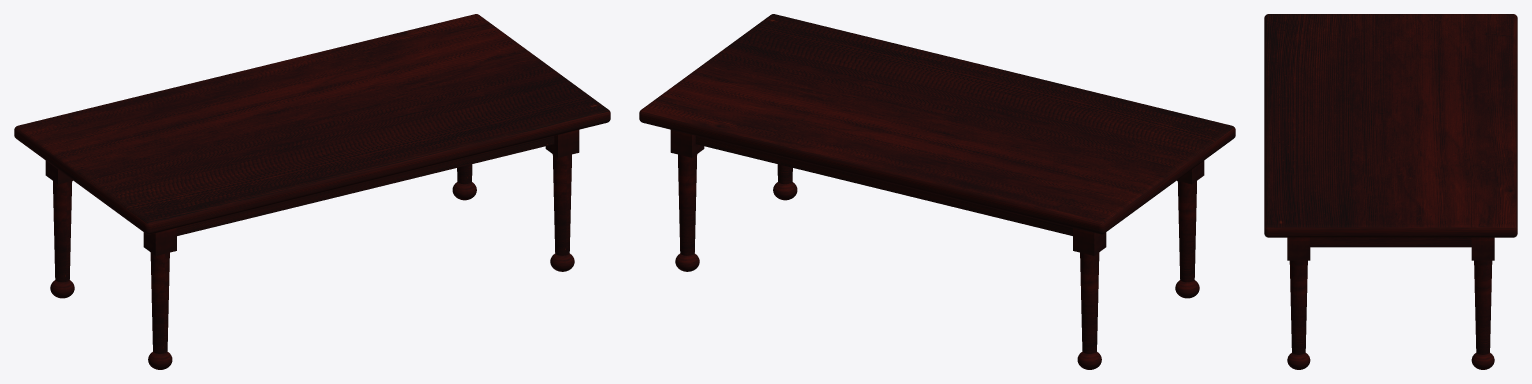
Rendered from state-default.glb.
3 renders of one model, left to right at view 1: azimuth 30°, elevation 25°; view 2: azimuth 150°, elevation 25°; view 3: azimuth 270°, elevation 25°, orthographic. The views are drawn at different scales.
Visible parts, largest first — view 1: assetPrim:9a67b23a28cf8-19c73cb7fe7:table-top, assetPrim:9a67b23a28cf8-19c73cb7fe7:apron-long-1, assetPrim:9a67b23a28cf8-19c73cb7fe7:leg-bl-turned, assetPrim:9a67b23a28cf8-19c73cb7fe7:leg-fl-turned, assetPrim:9a67b23a28cf8-19c73cb7fe7:leg-br-turned, assetPrim:9a67b23a28cf8-19c73cb7fe7:leg-bl-block, assetPrim:9a67b23a28cf8-19c73cb7fe7:leg-fl-block; view 2: assetPrim:9a67b23a28cf8-19c73cb7fe7:table-top, assetPrim:9a67b23a28cf8-19c73cb7fe7:apron-long-2, assetPrim:9a67b23a28cf8-19c73cb7fe7:leg-br-turned, assetPrim:9a67b23a28cf8-19c73cb7fe7:leg-fr-turned, assetPrim:9a67b23a28cf8-19c73cb7fe7:leg-bl-turned, assetPrim:9a67b23a28cf8-19c73cb7fe7:leg-br-block, assetPrim:9a67b23a28cf8-19c73cb7fe7:leg-fr-block; view 3: assetPrim:9a67b23a28cf8-19c73cb7fe7:table-top, assetPrim:9a67b23a28cf8-19c73cb7fe7:apron-short-1, assetPrim:9a67b23a28cf8-19c73cb7fe7:leg-fl-turned, assetPrim:9a67b23a28cf8-19c73cb7fe7:leg-fr-turned, assetPrim:9a67b23a28cf8-19c73cb7fe7:leg-fl-block, assetPrim:9a67b23a28cf8-19c73cb7fe7:leg-fr-block, assetPrim:9a67b23a28cf8-19c73cb7fe7:leg-fl-foot, assetPrim:9a67b23a28cf8-19c73cb7fe7:leg-fr-foot.
Boxes of the visible parts, box(x1,y1,x2,y2) form: assetPrim:9a67b23a28cf8-19c73cb7fe7:table-top: box(14, 14, 610, 234); assetPrim:9a67b23a28cf8-19c73cb7fe7:apron-long-1: box(177, 136, 554, 235); assetPrim:9a67b23a28cf8-19c73cb7fe7:leg-bl-turned: box(150, 252, 169, 353); assetPrim:9a67b23a28cf8-19c73cb7fe7:leg-fl-turned: box(552, 154, 571, 255); assetPrim:9a67b23a28cf8-19c73cb7fe7:leg-br-turned: box(53, 181, 72, 282); assetPrim:9a67b23a28cf8-19c73cb7fe7:leg-bl-block: box(143, 228, 176, 255); assetPrim:9a67b23a28cf8-19c73cb7fe7:leg-fl-block: box(545, 130, 579, 157); assetPrim:9a67b23a28cf8-19c73cb7fe7:table-top: box(639, 14, 1235, 234); assetPrim:9a67b23a28cf8-19c73cb7fe7:apron-long-2: box(695, 136, 1072, 235); assetPrim:9a67b23a28cf8-19c73cb7fe7:leg-br-turned: box(1080, 252, 1099, 353); assetPrim:9a67b23a28cf8-19c73cb7fe7:leg-fr-turned: box(678, 154, 697, 255); assetPrim:9a67b23a28cf8-19c73cb7fe7:leg-bl-turned: box(1177, 181, 1196, 282); assetPrim:9a67b23a28cf8-19c73cb7fe7:leg-br-block: box(1073, 228, 1106, 255); assetPrim:9a67b23a28cf8-19c73cb7fe7:leg-fr-block: box(670, 130, 704, 157); assetPrim:9a67b23a28cf8-19c73cb7fe7:table-top: box(1264, 14, 1517, 237); assetPrim:9a67b23a28cf8-19c73cb7fe7:apron-short-1: box(1310, 237, 1471, 247); assetPrim:9a67b23a28cf8-19c73cb7fe7:leg-fl-turned: box(1289, 260, 1307, 354); assetPrim:9a67b23a28cf8-19c73cb7fe7:leg-fr-turned: box(1474, 260, 1492, 354); assetPrim:9a67b23a28cf8-19c73cb7fe7:leg-fl-block: box(1287, 237, 1310, 260); assetPrim:9a67b23a28cf8-19c73cb7fe7:leg-fr-block: box(1471, 237, 1494, 260); assetPrim:9a67b23a28cf8-19c73cb7fe7:leg-fl-foot: box(1287, 352, 1310, 369); assetPrim:9a67b23a28cf8-19c73cb7fe7:leg-fr-foot: box(1471, 352, 1494, 369).
Size of the model in its own units: 2.2 by 0.75 by 1.1.
Materials: 17 (17 with a texture image).
